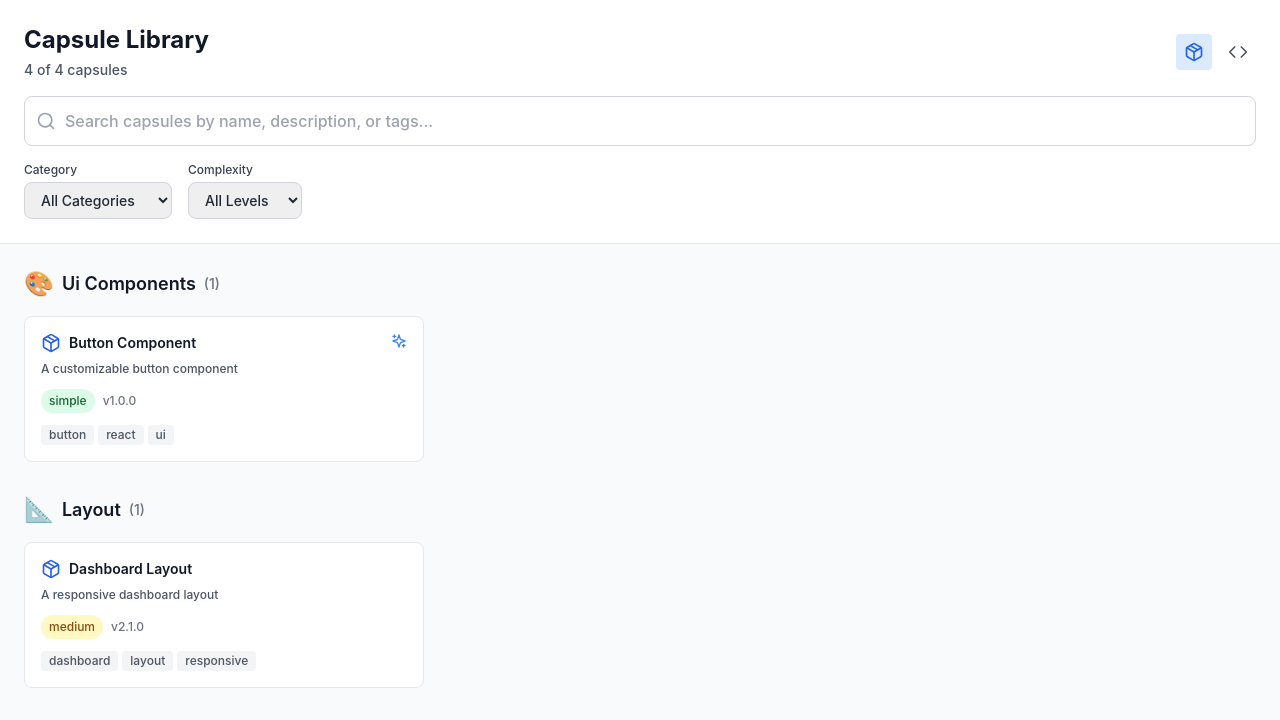
Test: CapsuleBrowser › search functionality › should filter capsules by tags
Type "sorting" into the field with placeholder "Search capsules by name, description, or tags..." at (640, 121), box [24, 96, 1256, 146]
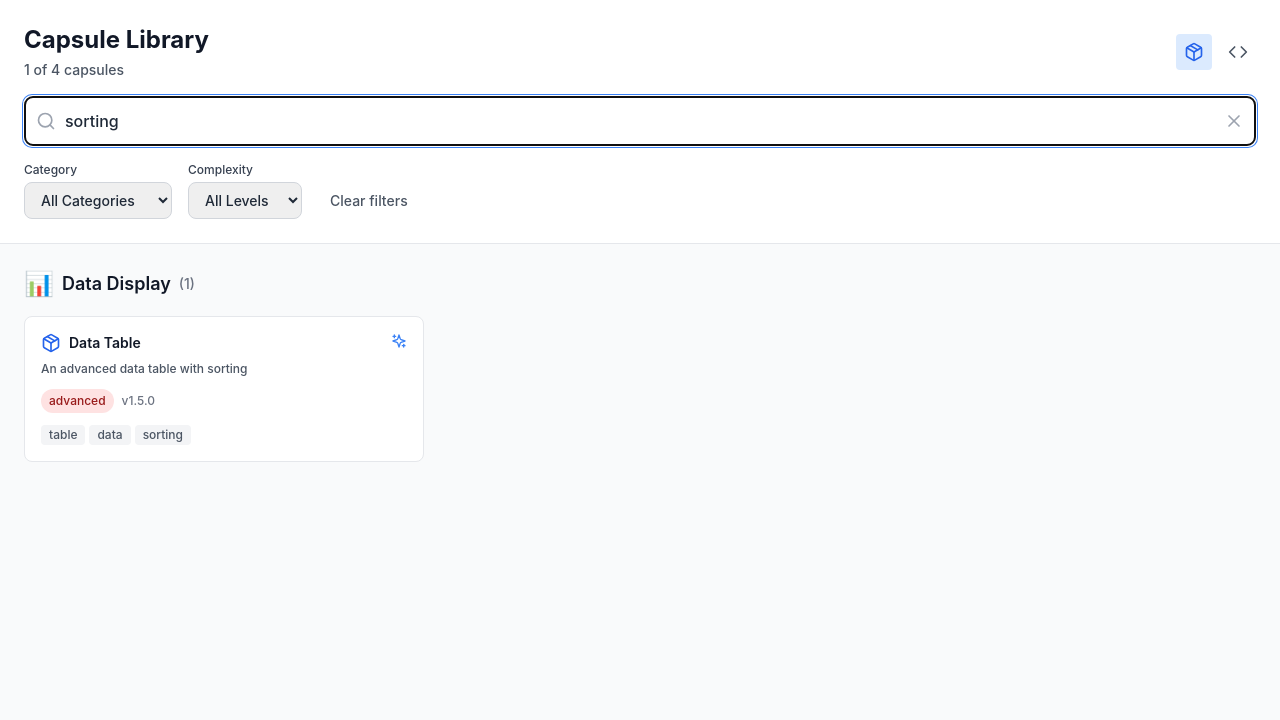
Expected: the heading "Data Table" is shown, [69, 333, 141, 353]
Expected: the heading "Button Component" is gone
